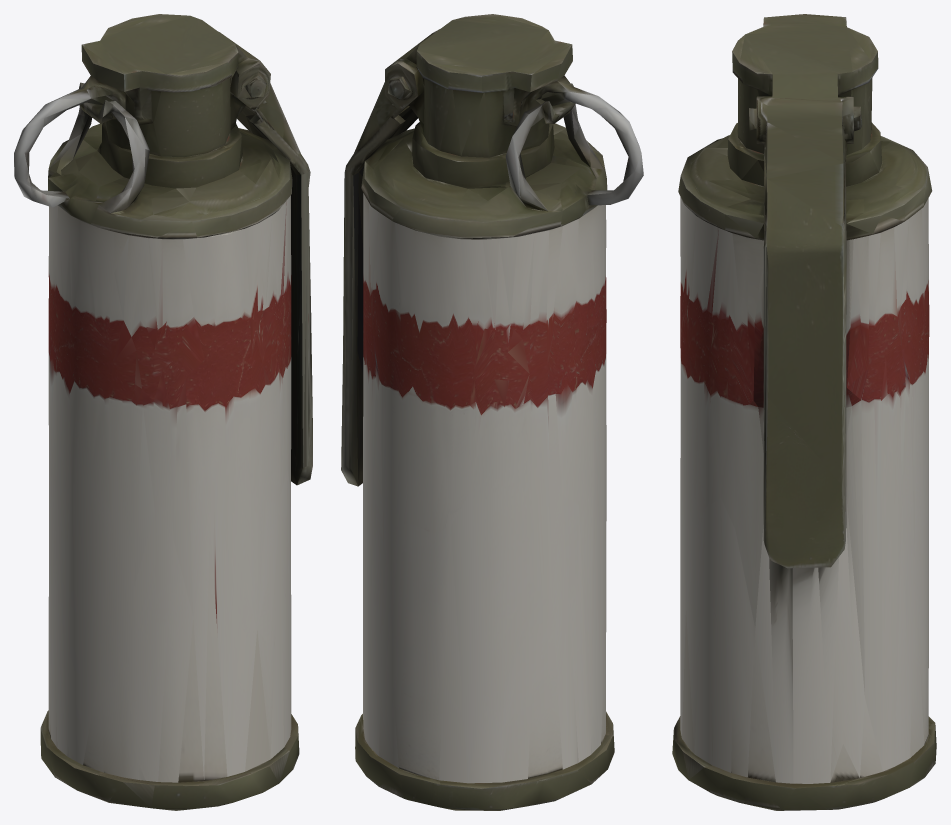
The model's file is Asset_06_LOD2.fbx.
The picture shows the model from 3 angles, left to right: view 1: azimuth 30°, elevation 25°; view 2: azimuth 150°, elevation 25°; view 3: azimuth 270°, elevation 25°; orthographic projection.
Visible parts, largest first — view 1: Asset_06_LOD2; view 2: Asset_06_LOD2; view 3: Asset_06_LOD2.
Boxes of the visible parts, left/top/right/bottom form: Asset_06_LOD2: left=14, top=14, right=312, bottom=810; Asset_06_LOD2: left=341, top=14, right=643, bottom=810; Asset_06_LOD2: left=672, top=14, right=936, bottom=810.
Size of the model in its own units: 0.0596 by 0.145 by 0.0488.
1 material, 1 textured.
